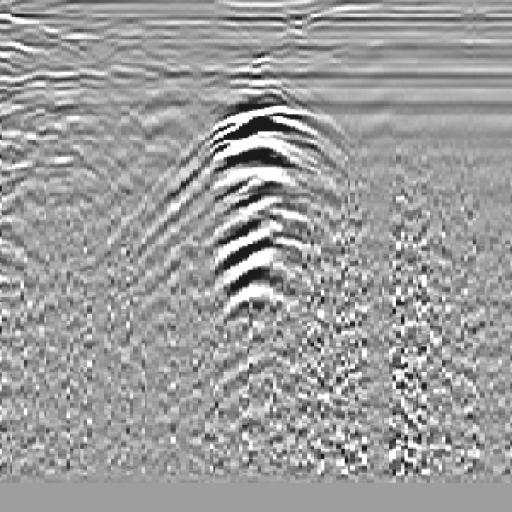metalic: (182, 69, 347, 352)
